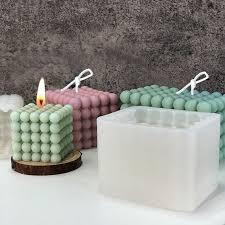cube: (11, 103, 74, 162)
